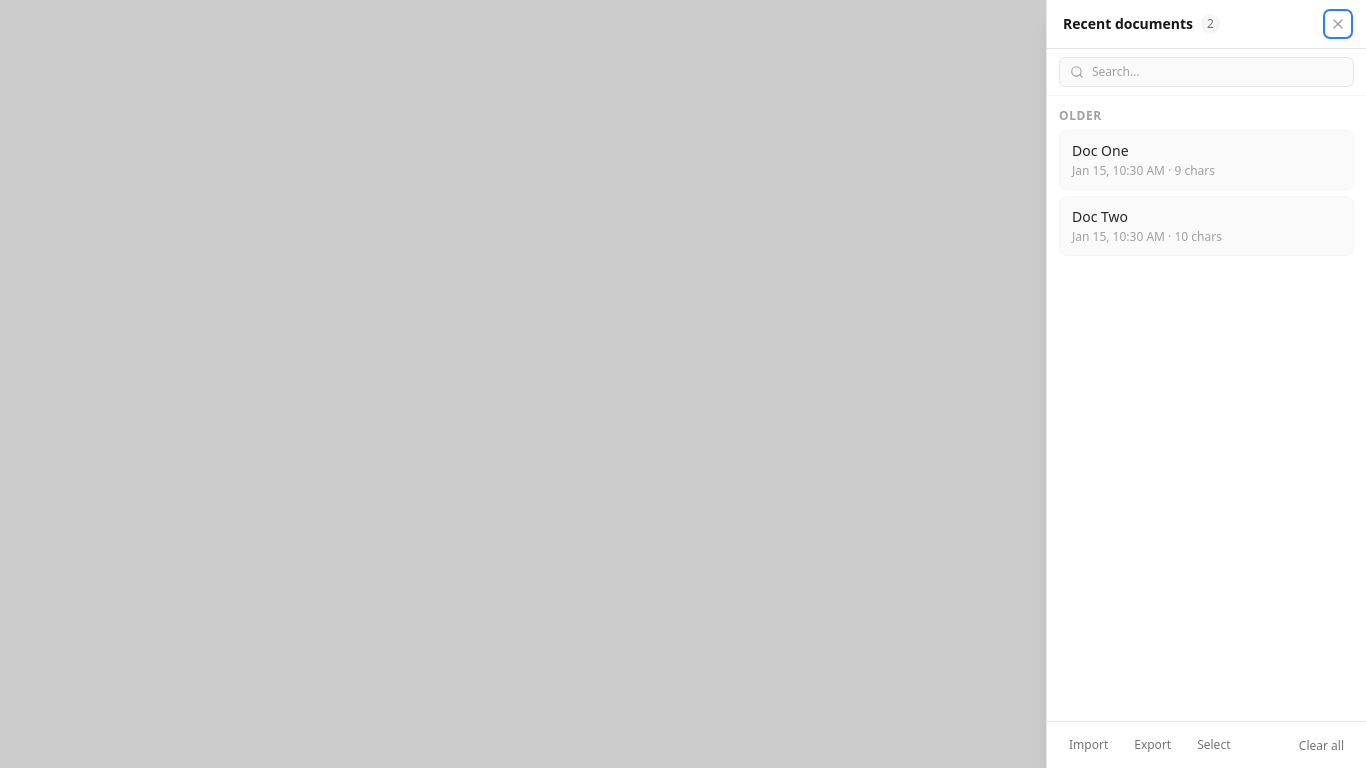
it: HistorySidebar — select mode & bulk delete › Select all button selects all filtered entries
What coordinates should you click on to do the following:
click the button with aria-label "enter bulk selection mode"
I would click on:
 (1214, 745)
Its box is [1187, 733, 1240, 757].
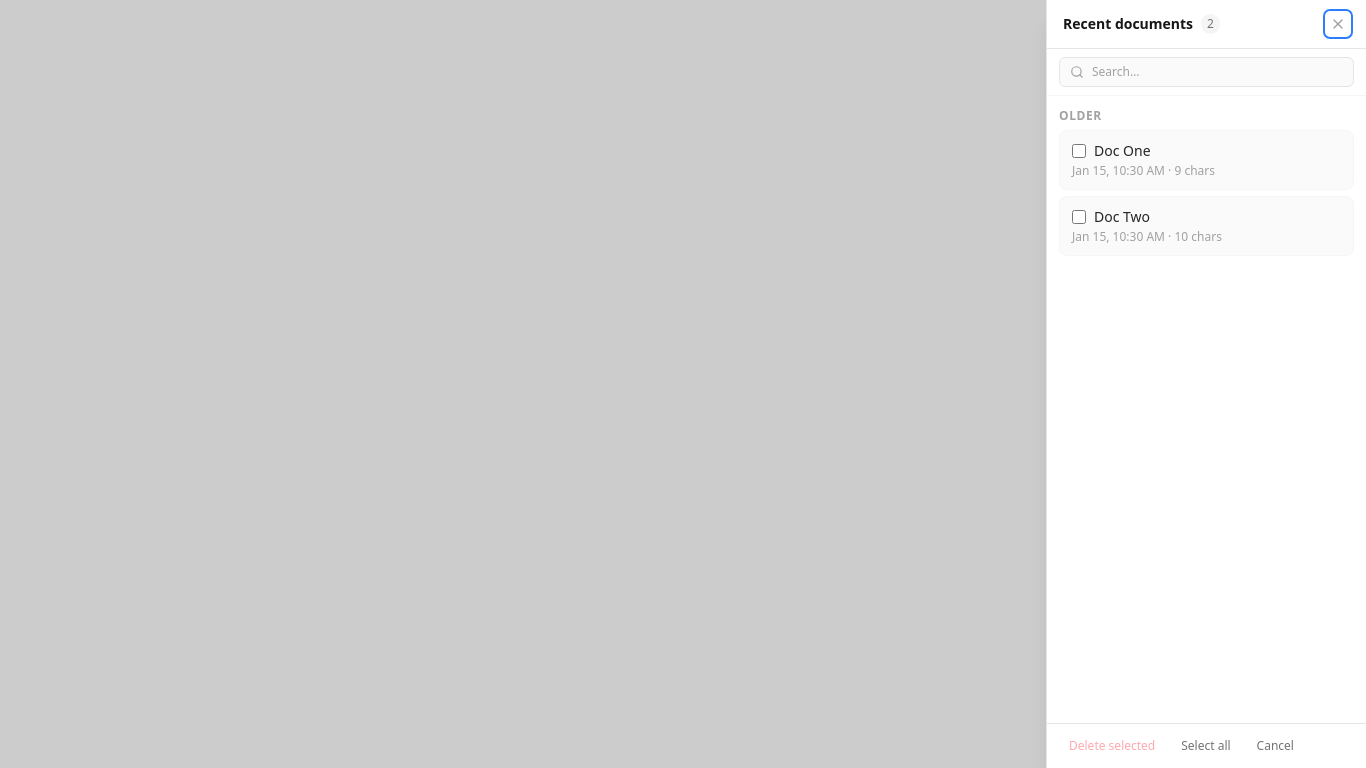
What coordinates should you click on to do the following:
click the button "Select all"
I would click on:
 (1206, 746)
Its box is [1171, 734, 1241, 758].
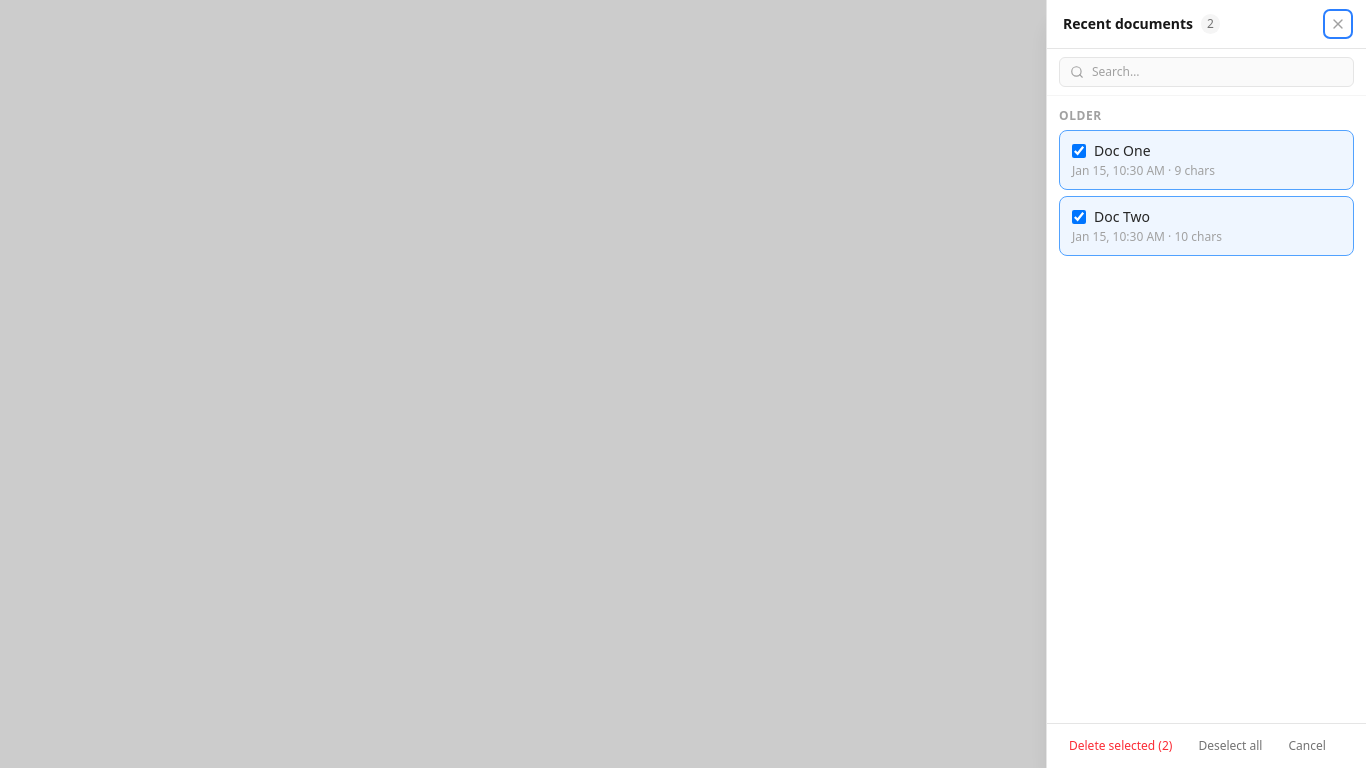
Expected: the button "Delete selected (2)" is enabled, [1059, 734, 1182, 758]
